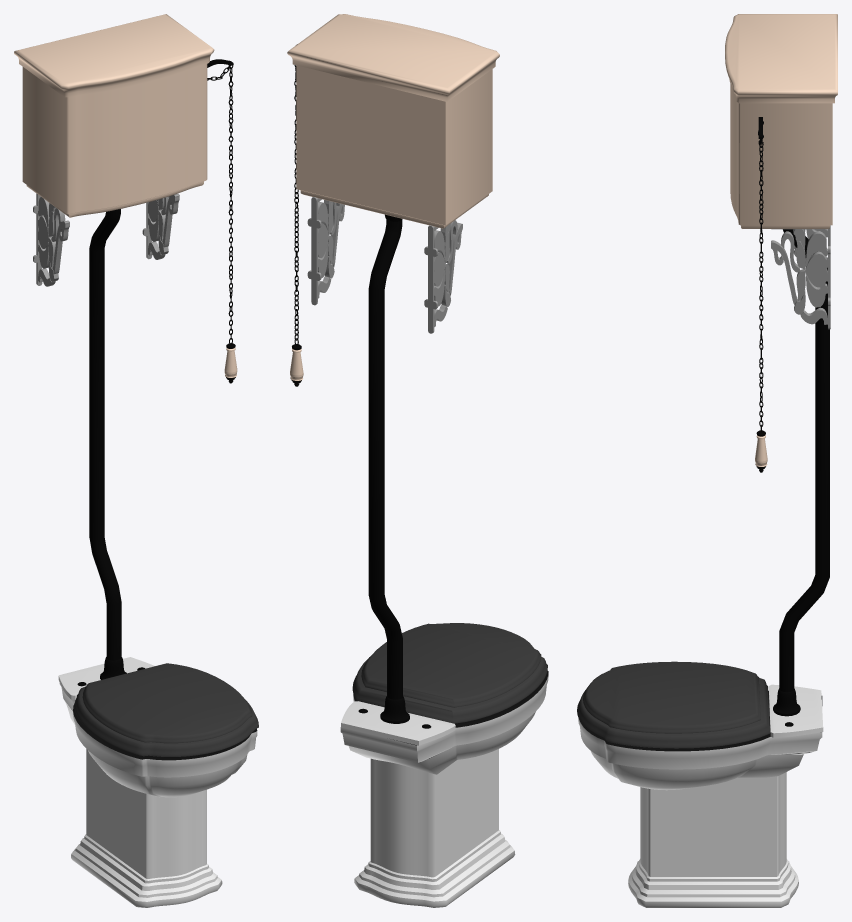
Rendered from alex_toilet.fbx.
3 renders of one model, left to right at view 1: azimuth 30°, elevation 25°; view 2: azimuth 150°, elevation 25°; view 3: azimuth 270°, elevation 25°, orthographic. The views are drawn at different scales.
Visible parts, largest first — view 1: Tolkan; view 2: Tolkan; view 3: Tolkan.
Boxes of the visible parts, bbox=[...] form: Tolkan: bbox=[14, 14, 258, 907]; Tolkan: bbox=[287, 14, 548, 907]; Tolkan: bbox=[577, 14, 837, 907].
Bounding box in the file's own units: 19.6 × 80.27 × 22.7.
